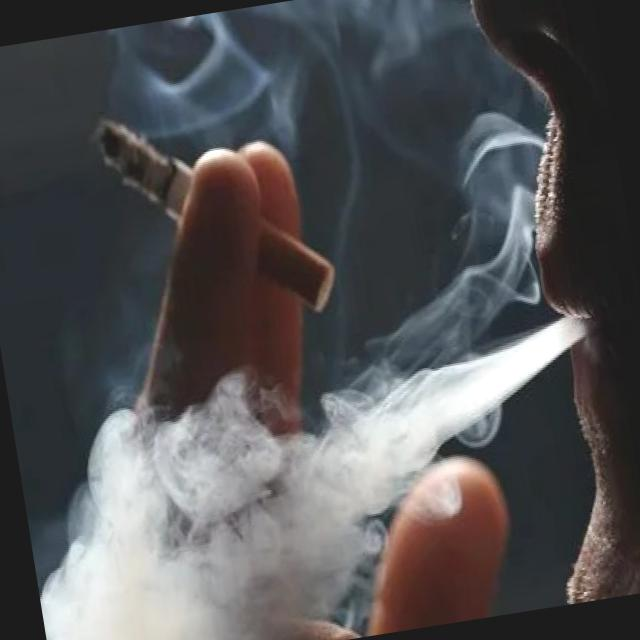cigarette: (86, 77, 344, 347)
